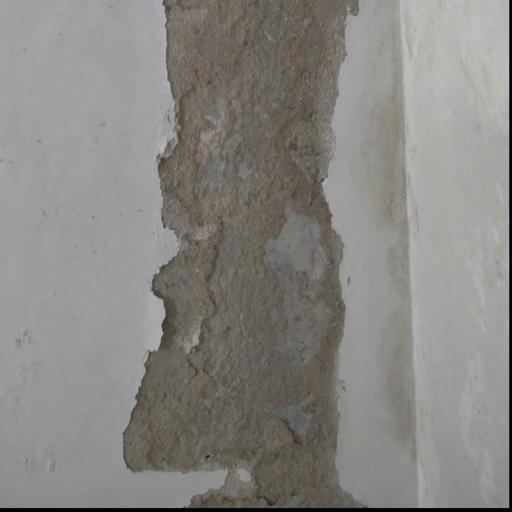peeling: (113, 6, 388, 510)
